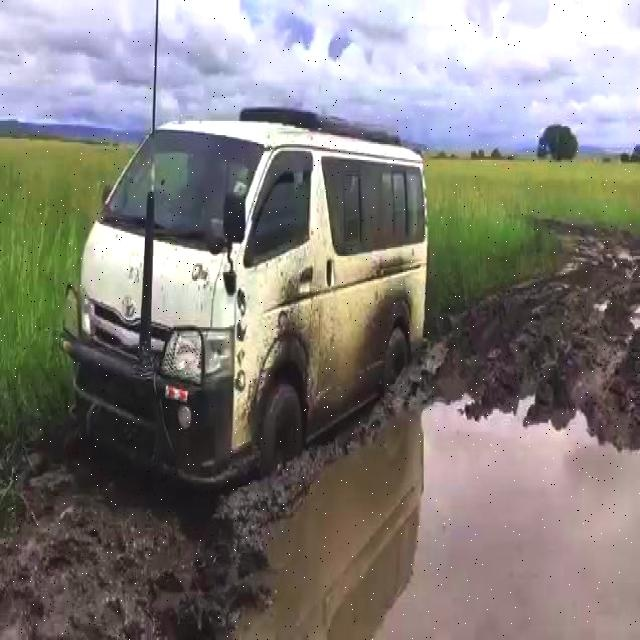Van: (62, 100, 433, 492)
